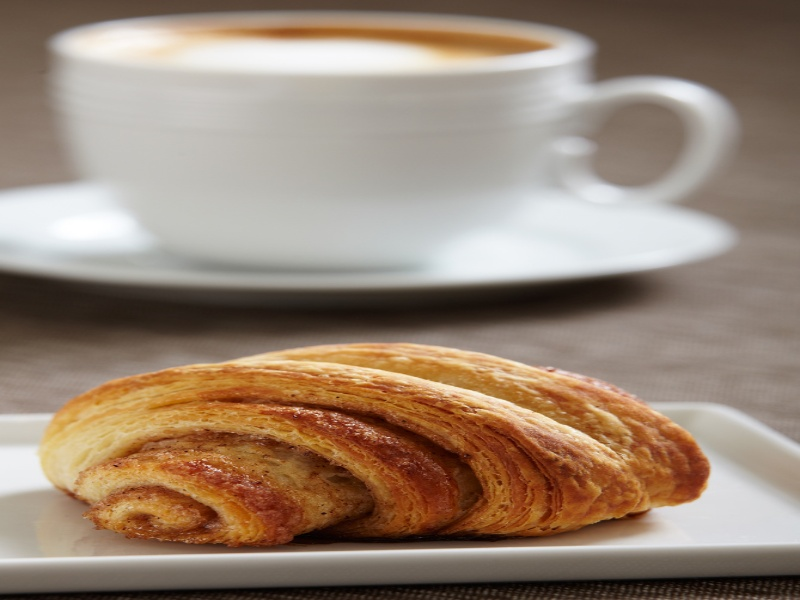cup: (21, 3, 736, 259)
